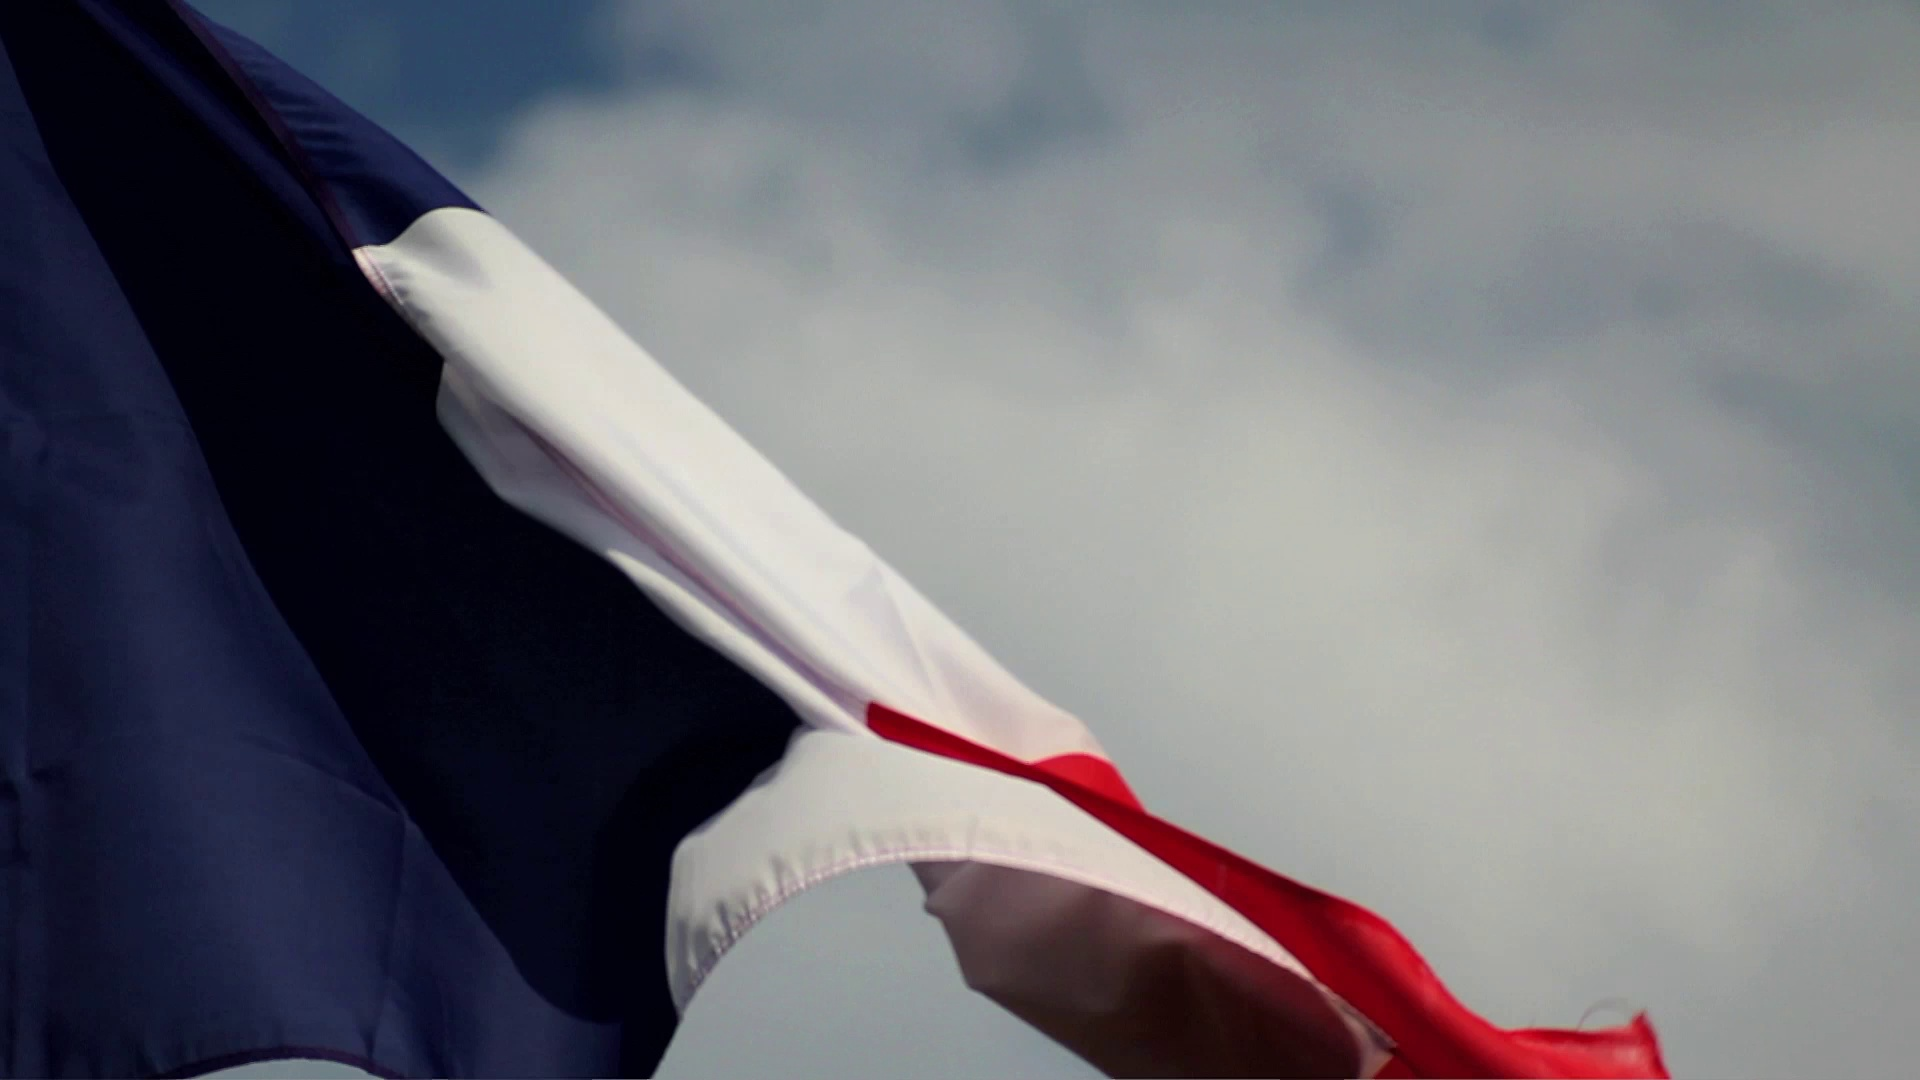French Flag: (1, 1, 1663, 1080)
